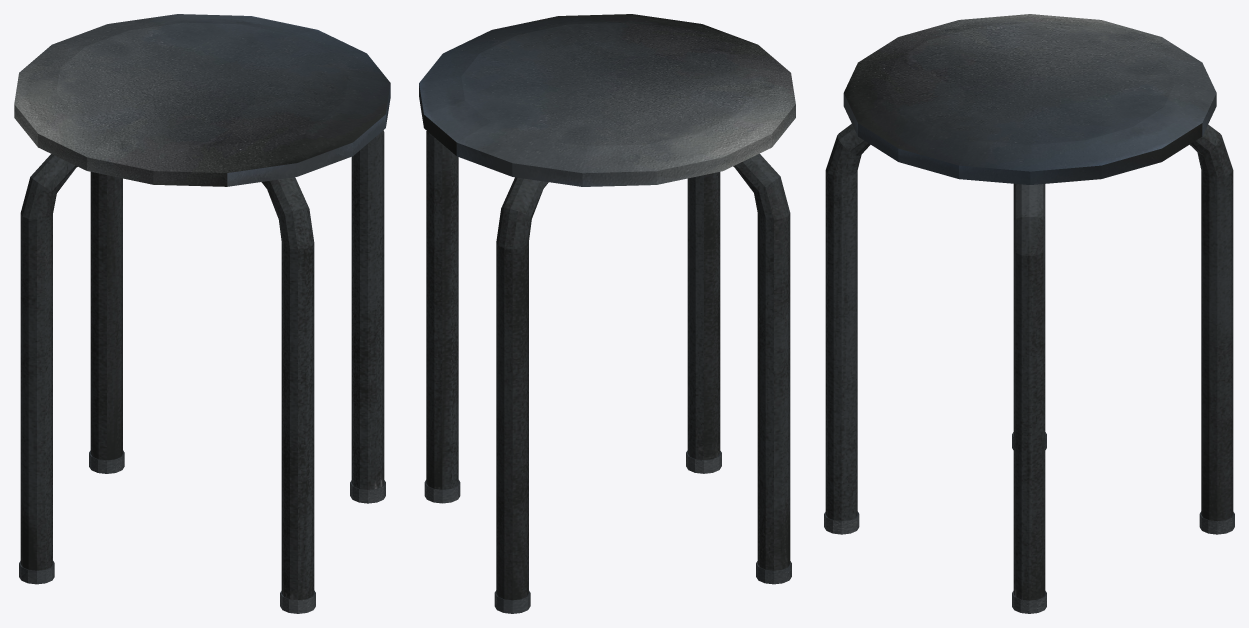
Rendered from Stool.fbx.
3 renders of one model, left to right at view 1: azimuth 30°, elevation 25°; view 2: azimuth 150°, elevation 25°; view 3: azimuth 270°, elevation 25°, orthographic.
Visible parts, largest first — view 1: polySurface1188; view 2: polySurface1188; view 3: polySurface1188.
Part boxes in pixels (bbox=[...]): polySurface1188: bbox=[14, 14, 390, 613]; polySurface1188: bbox=[419, 14, 795, 613]; polySurface1188: bbox=[824, 14, 1234, 613].
Bounding box in the file's own units: 0.3821 × 0.4552 × 0.3821.
Materials: 1 (1 with a texture image).
